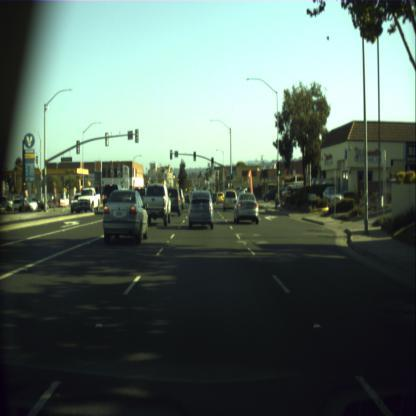Green: (277, 162, 280, 174), (193, 151, 196, 161), (211, 156, 213, 166), (230, 173, 232, 182)
Red: (170, 149, 172, 159)
